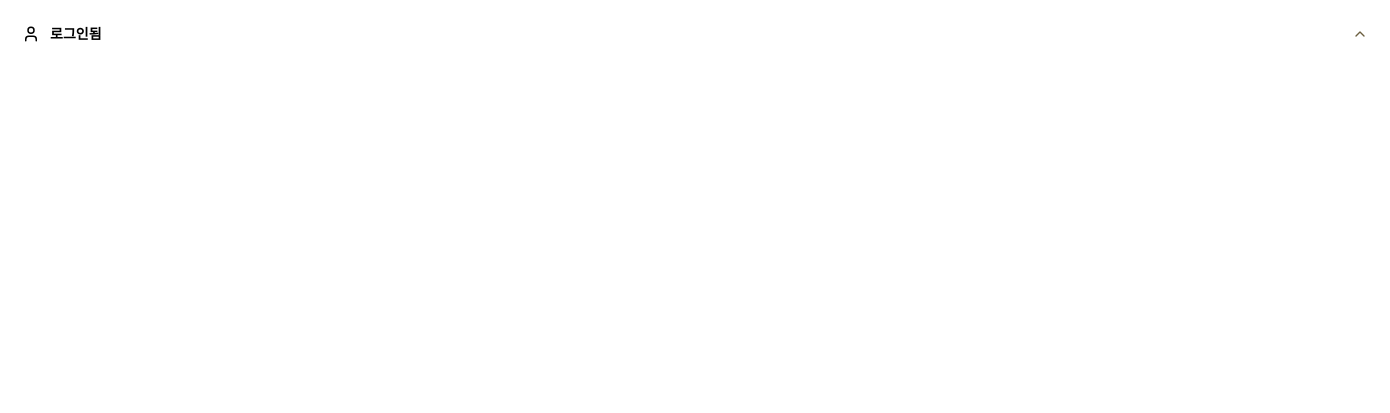
Test case: 계정 메뉴의 화면 모드 › 기본은 시스템이고, 승인된 글자 세 칸과 설명을 보인다
This screenshot has width=1390, height=413.
What coordinates should you click on to do the following:
click the button with test id "account-menu-button"
I would click on:
 (76, 34)
Its box is [12,12,1378,56].
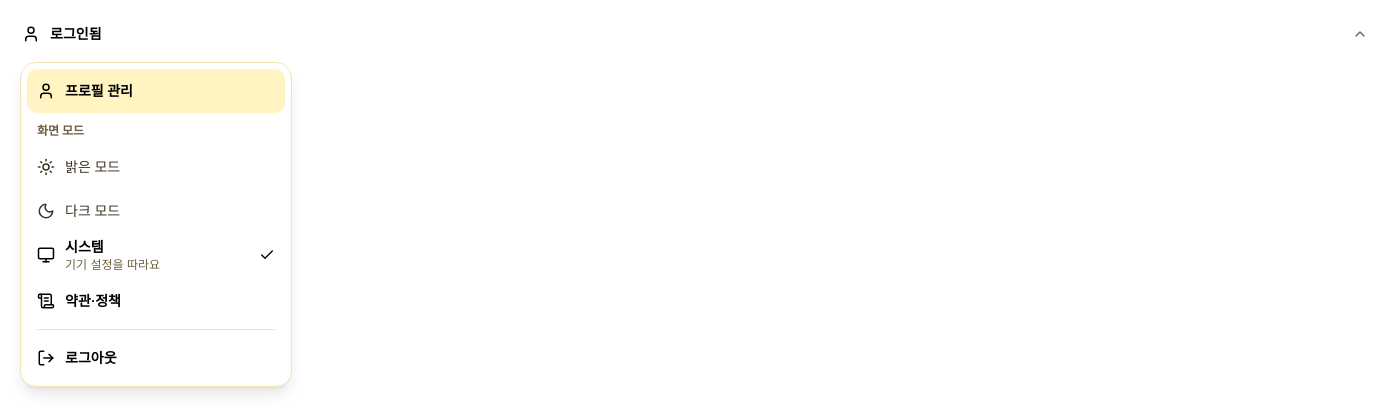
Now the text "화면 모드" is shown, box [37,123,84,138]
Now the text "기기 설정을 따라요" is shown, box [65,257,160,272]
